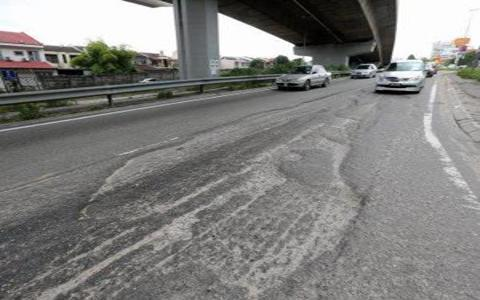patchy roads: (54, 102, 232, 274), (252, 119, 419, 273)
